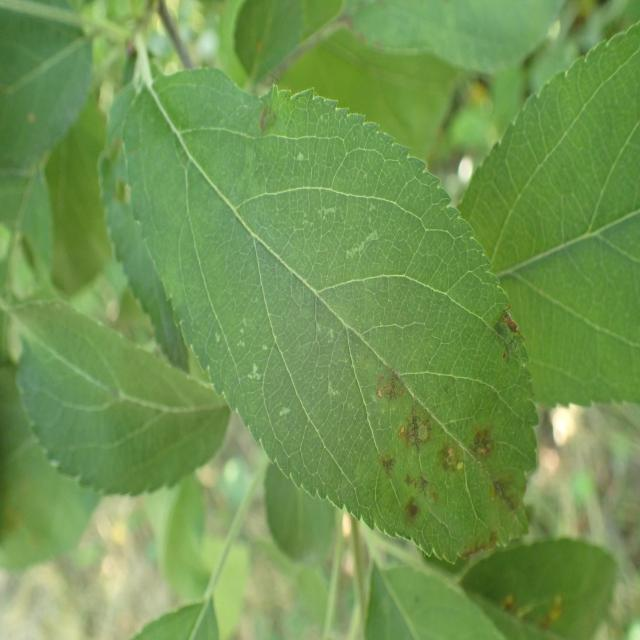scab: (191, 77, 550, 563), (549, 572, 549, 572)
